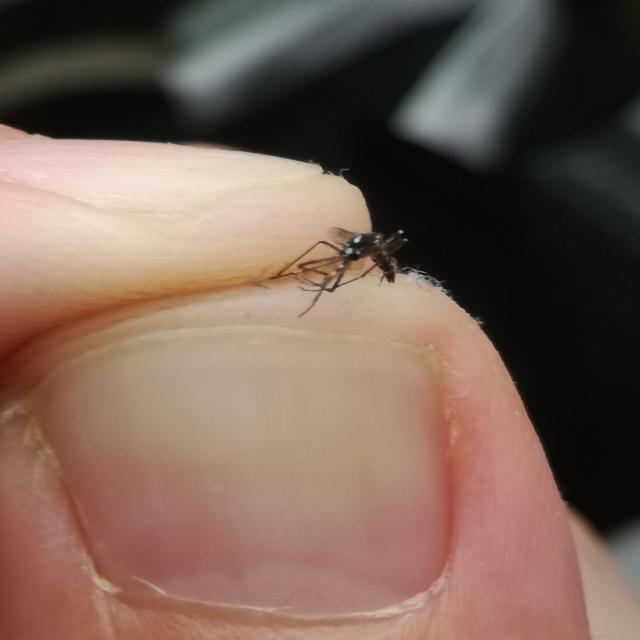albopictus: (251, 209, 427, 324)
